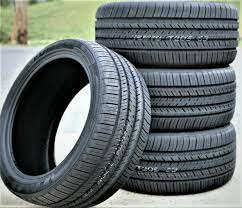tire: (1, 38, 150, 208), (94, 1, 239, 66), (117, 124, 236, 195), (137, 68, 236, 130)
